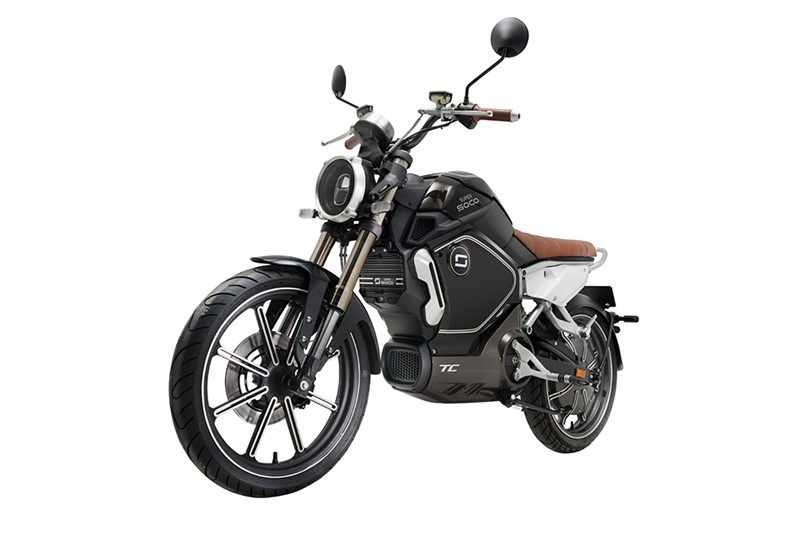motorcycle: (166, 19, 648, 498)
